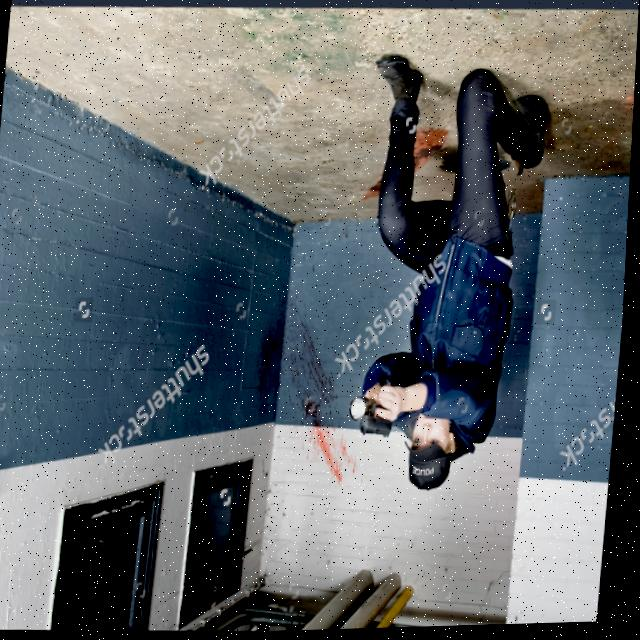pistol: (363, 413, 397, 441)
